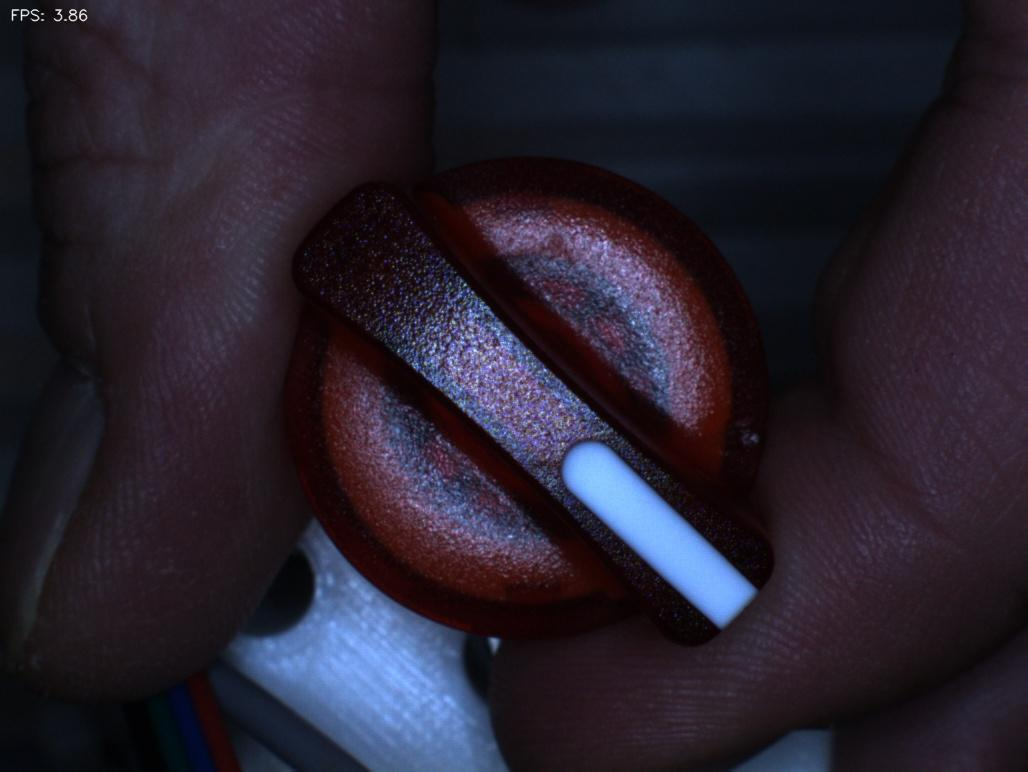Choc: (707, 387, 787, 470)
